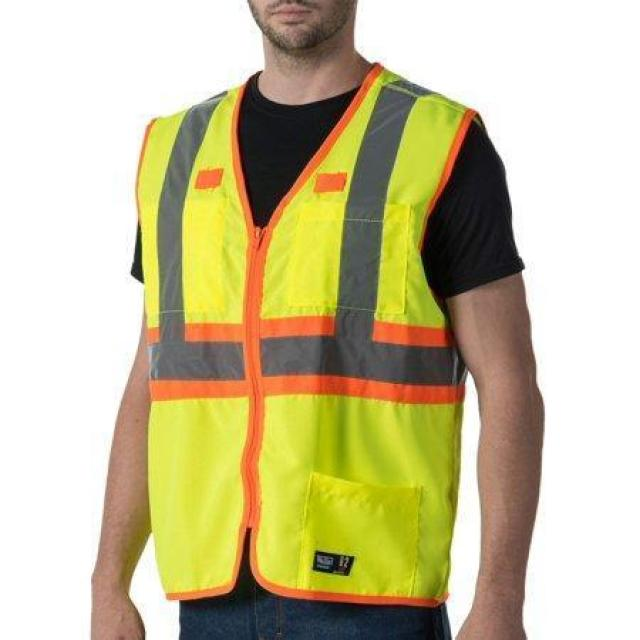Vest: (132, 59, 491, 612)
